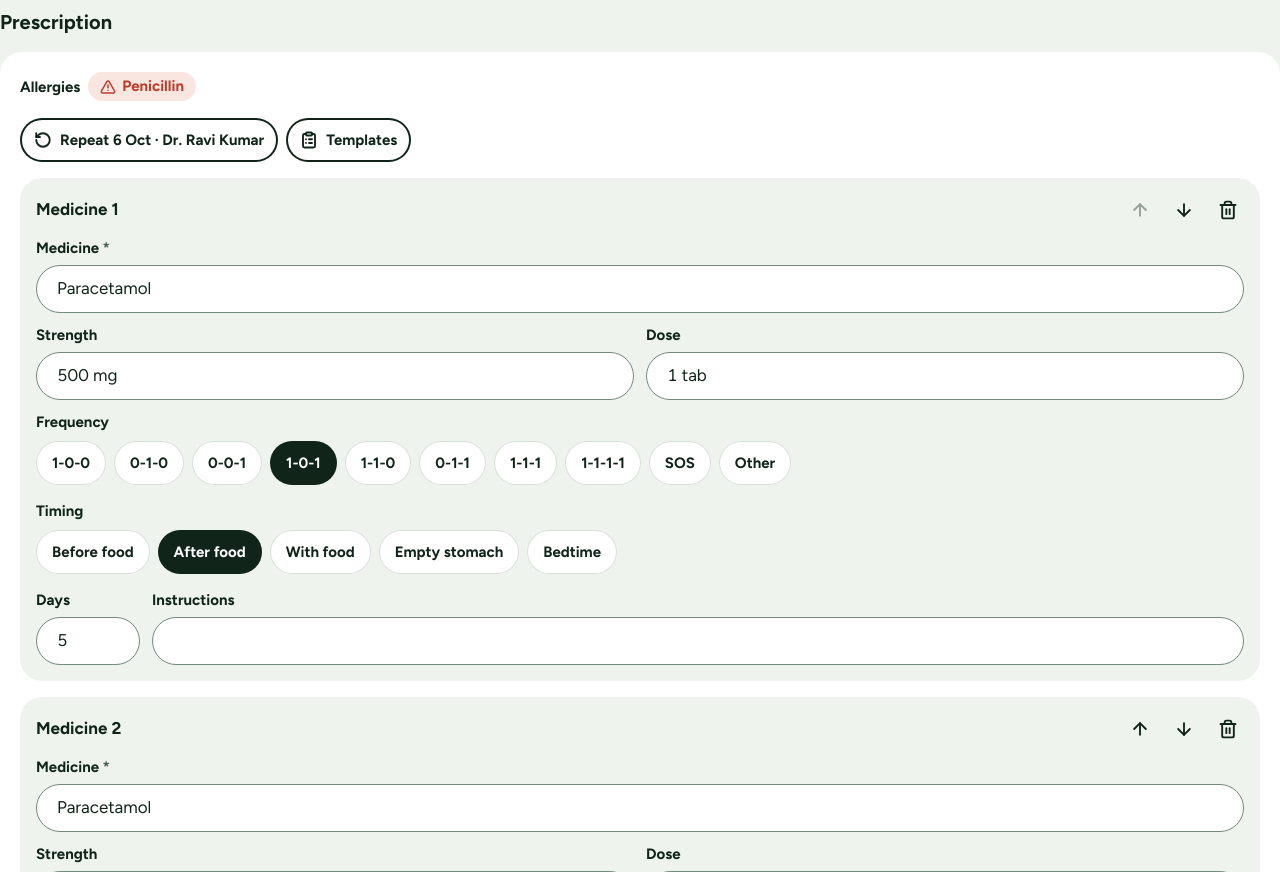
Test: PrescriptionSection's Repeat and templates (D236 – D241) › adds nothing past the most a prescription holds, and says why
Step 1. Click the button "Repeat 6 Oct · Dr. Ravi Kumar" → [149, 140], box [20,118,278,162]
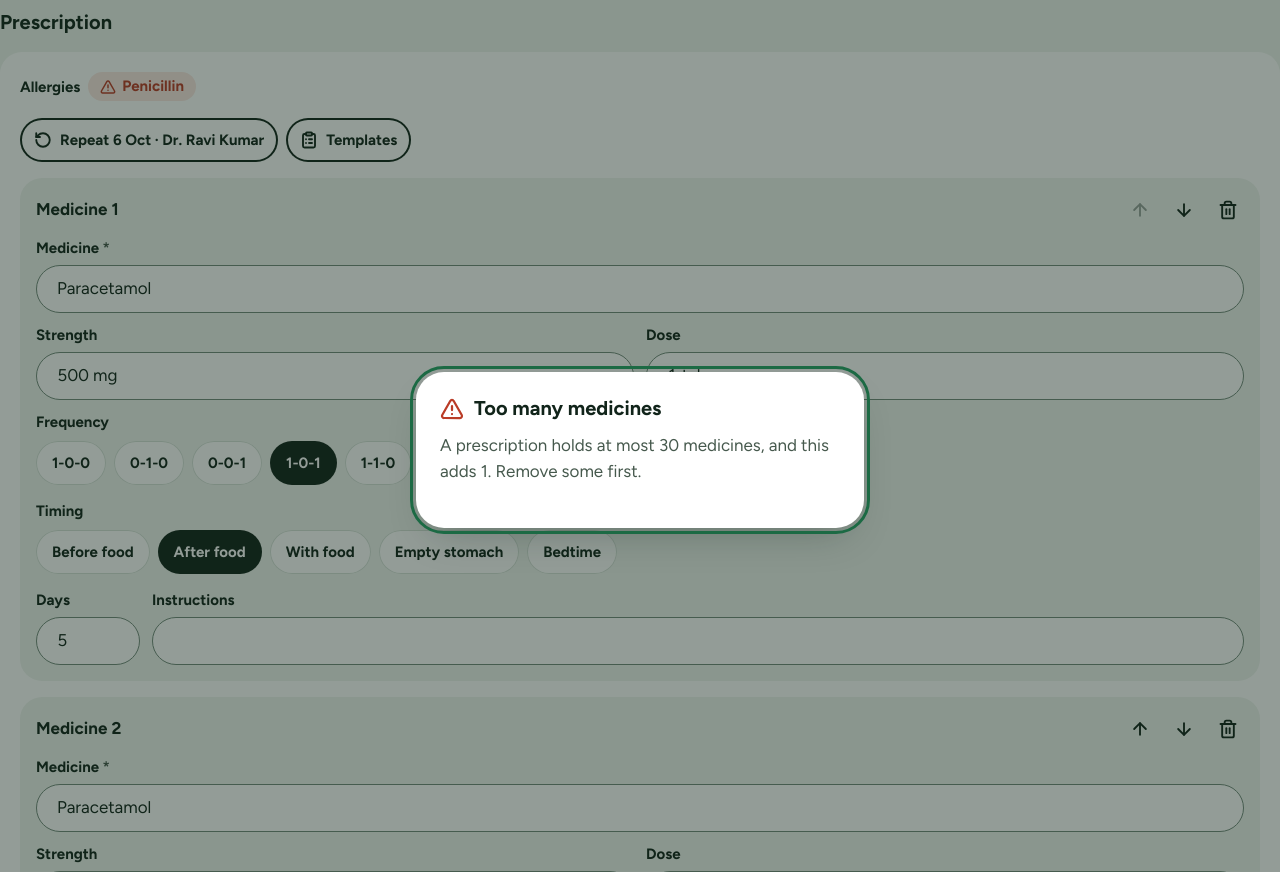
Expected: the dialog "Too many medicines" shows "A prescription holds at most 30 medicines, and this adds 1. Remove some first.", [440,435,829,480]
